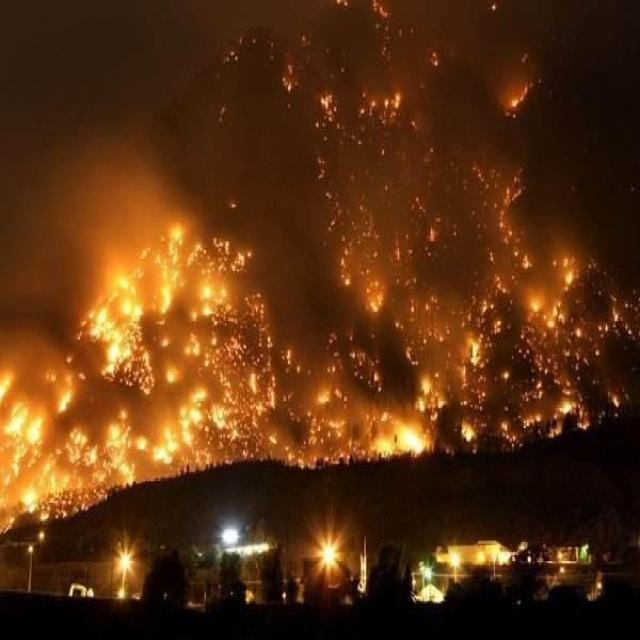fire: (24, 12, 622, 510)
other: (402, 517, 508, 589), (299, 520, 347, 583), (201, 514, 256, 567), (99, 526, 144, 590)
